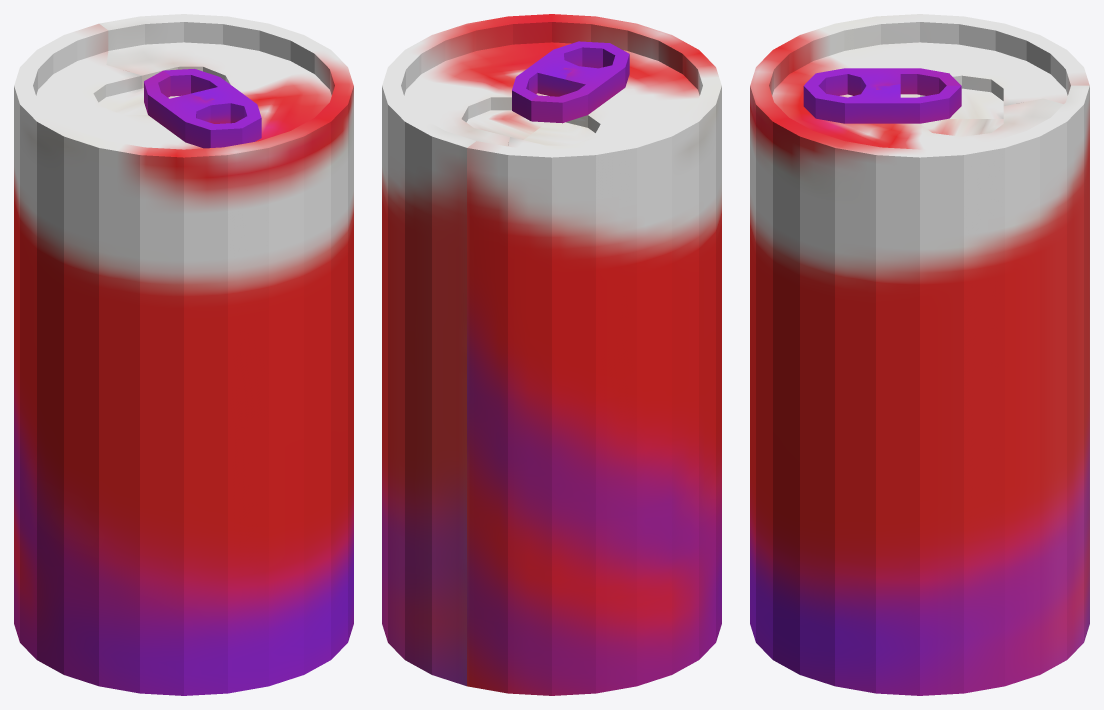
Rendered from Powerup_drink_new.fbx.
3 renders of one model, left to right at view 1: azimuth 30°, elevation 25°; view 2: azimuth 150°, elevation 25°; view 3: azimuth 270°, elevation 25°, orthographic.
Visible parts, largest first — view 1: Object_1; view 2: Object_1; view 3: Object_1.
Boxes of the visible parts, x1,y1,x2,y2 form: Object_1: (14,14,353,695); Object_1: (382,14,721,695); Object_1: (750,14,1089,695).
Size of the model in its own units: 25 by 43.73 by 25.
